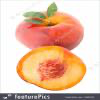Peach leaf: (46, 1, 59, 18), (23, 11, 47, 20), (24, 18, 46, 26)
